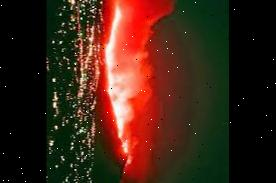fire: (104, 0, 137, 158)
